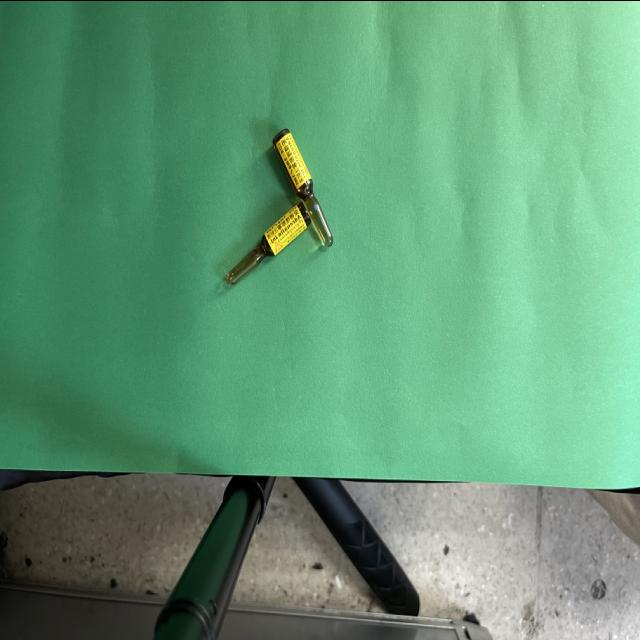Ampoules: (226, 128, 333, 284)
